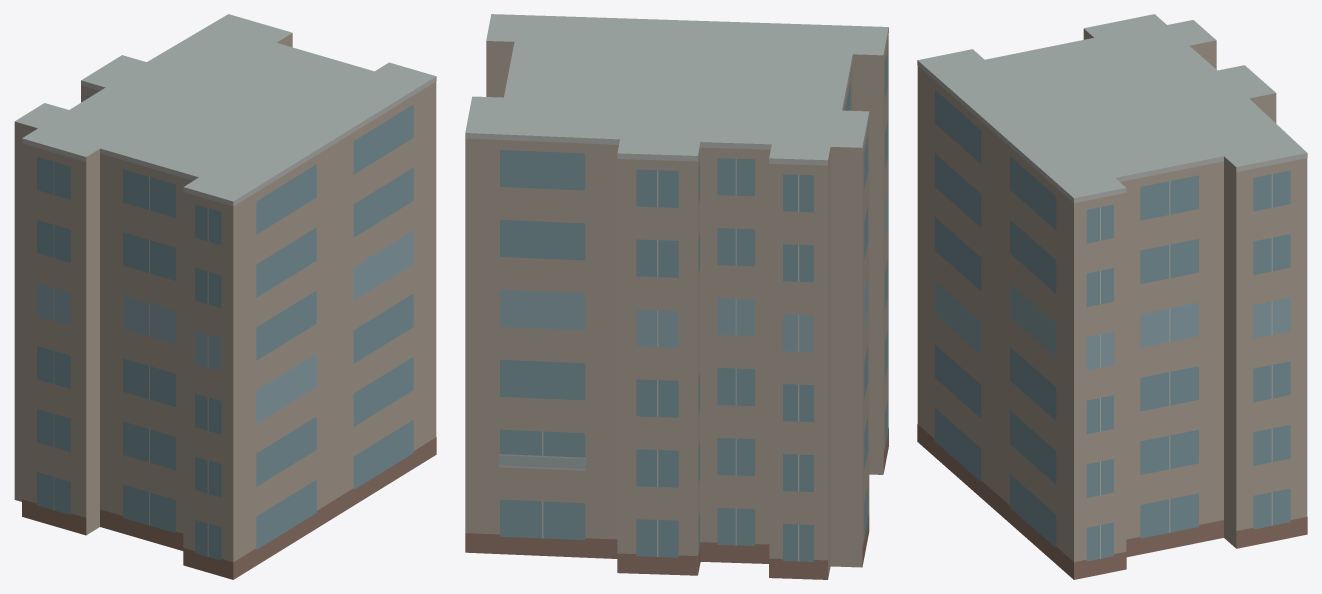
The model's file is survey-upis-32747985.glb.
3 renders of one model, left to right at view 1: azimuth 30°, elevation 25°; view 2: azimuth 150°, elevation 25°; view 3: azimuth 270°, elevation 25°, orthographic. The views are drawn at different scales.
Visible parts, largest first — view 1: survey-upis-32747985.tmp; view 2: survey-upis-32747985.tmp; view 3: survey-upis-32747985.tmp.
Part boxes in pixels (bbox=[...]): survey-upis-32747985.tmp: bbox=[14, 14, 436, 579]; survey-upis-32747985.tmp: bbox=[465, 14, 888, 579]; survey-upis-32747985.tmp: bbox=[917, 14, 1307, 579].
Bounding box in the file's own units: 19.17 × 18.5 × 17.15.
